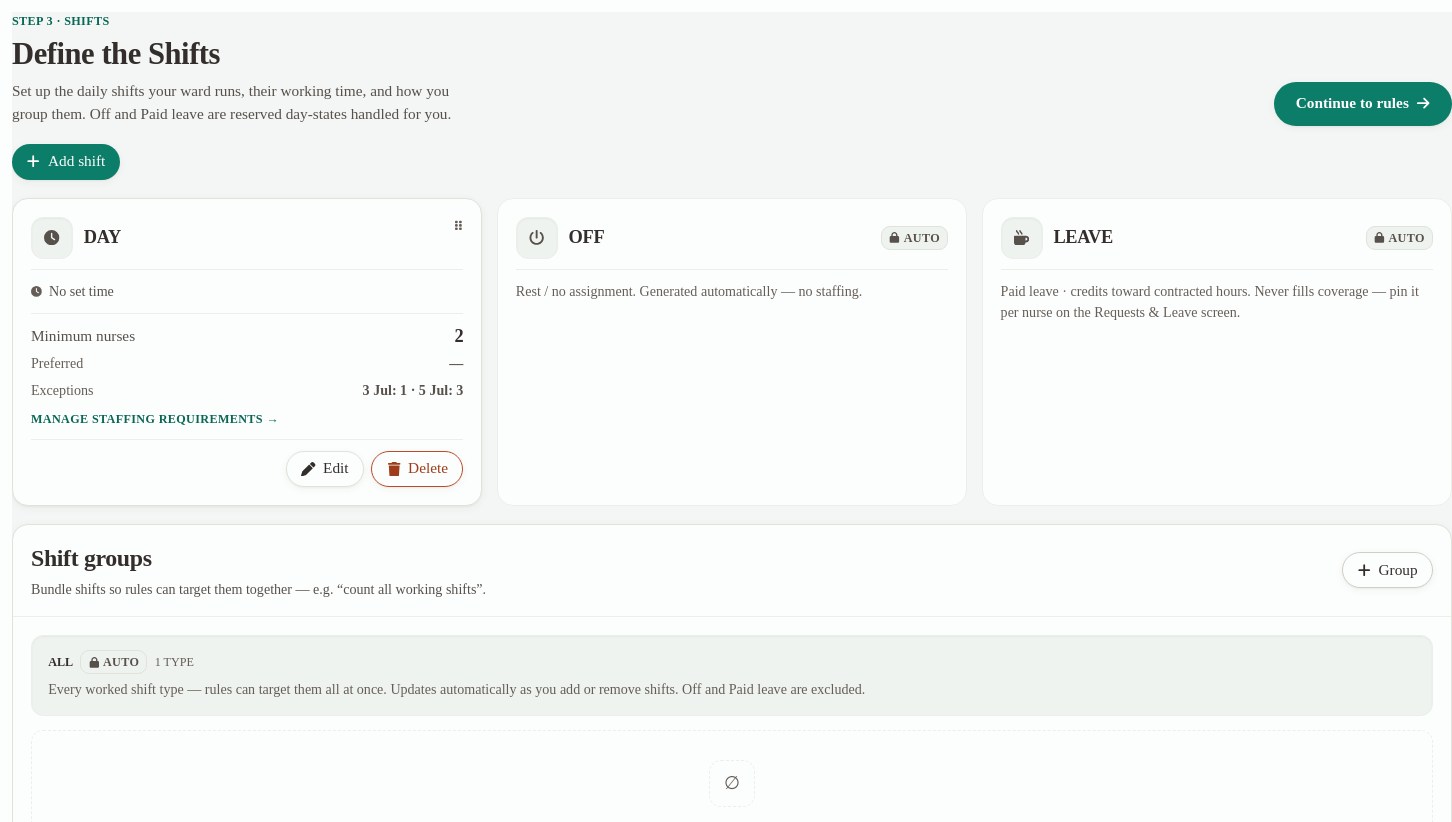
it: ShiftTypeGrid — staffing states › surfaces per-date exceptions in the edit form under Minimum nurses and deep-links to Requirements
Click the button with test id "shift-edit-string:Day".
click(325, 469)  # box x1=286 y1=451 x2=364 y2=487
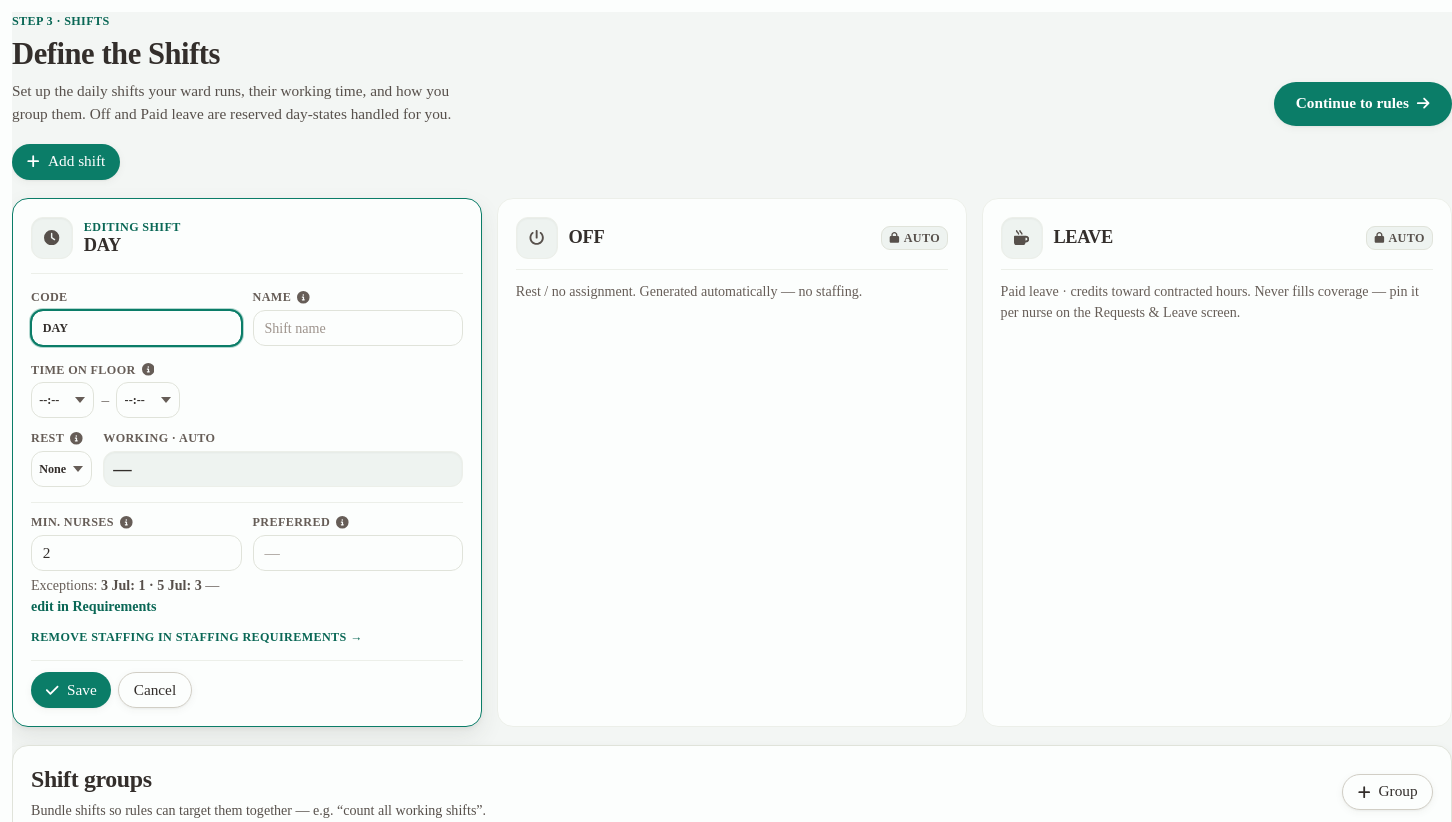
Check: the element with test id "shift-edit-string:Day-staffing-exceptions" reads "Exceptions: 3 Jul: 1 · 5 Jul: 3 — edit in Requirements", box x1=31 y1=575 x2=242 y2=617
